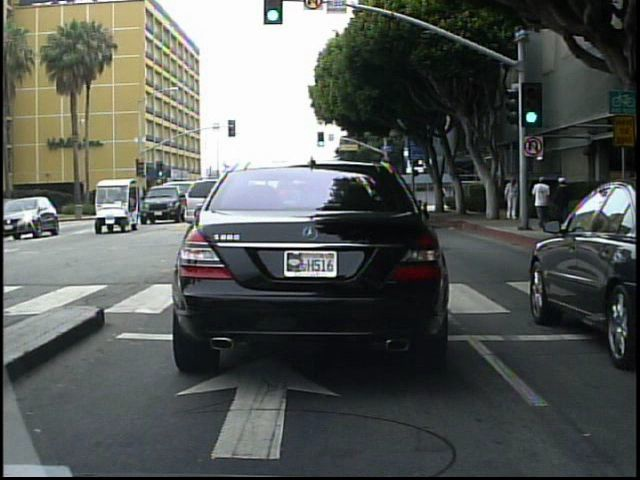person: (554, 171, 579, 237), (531, 173, 555, 235), (504, 177, 521, 225), (437, 182, 450, 215)
